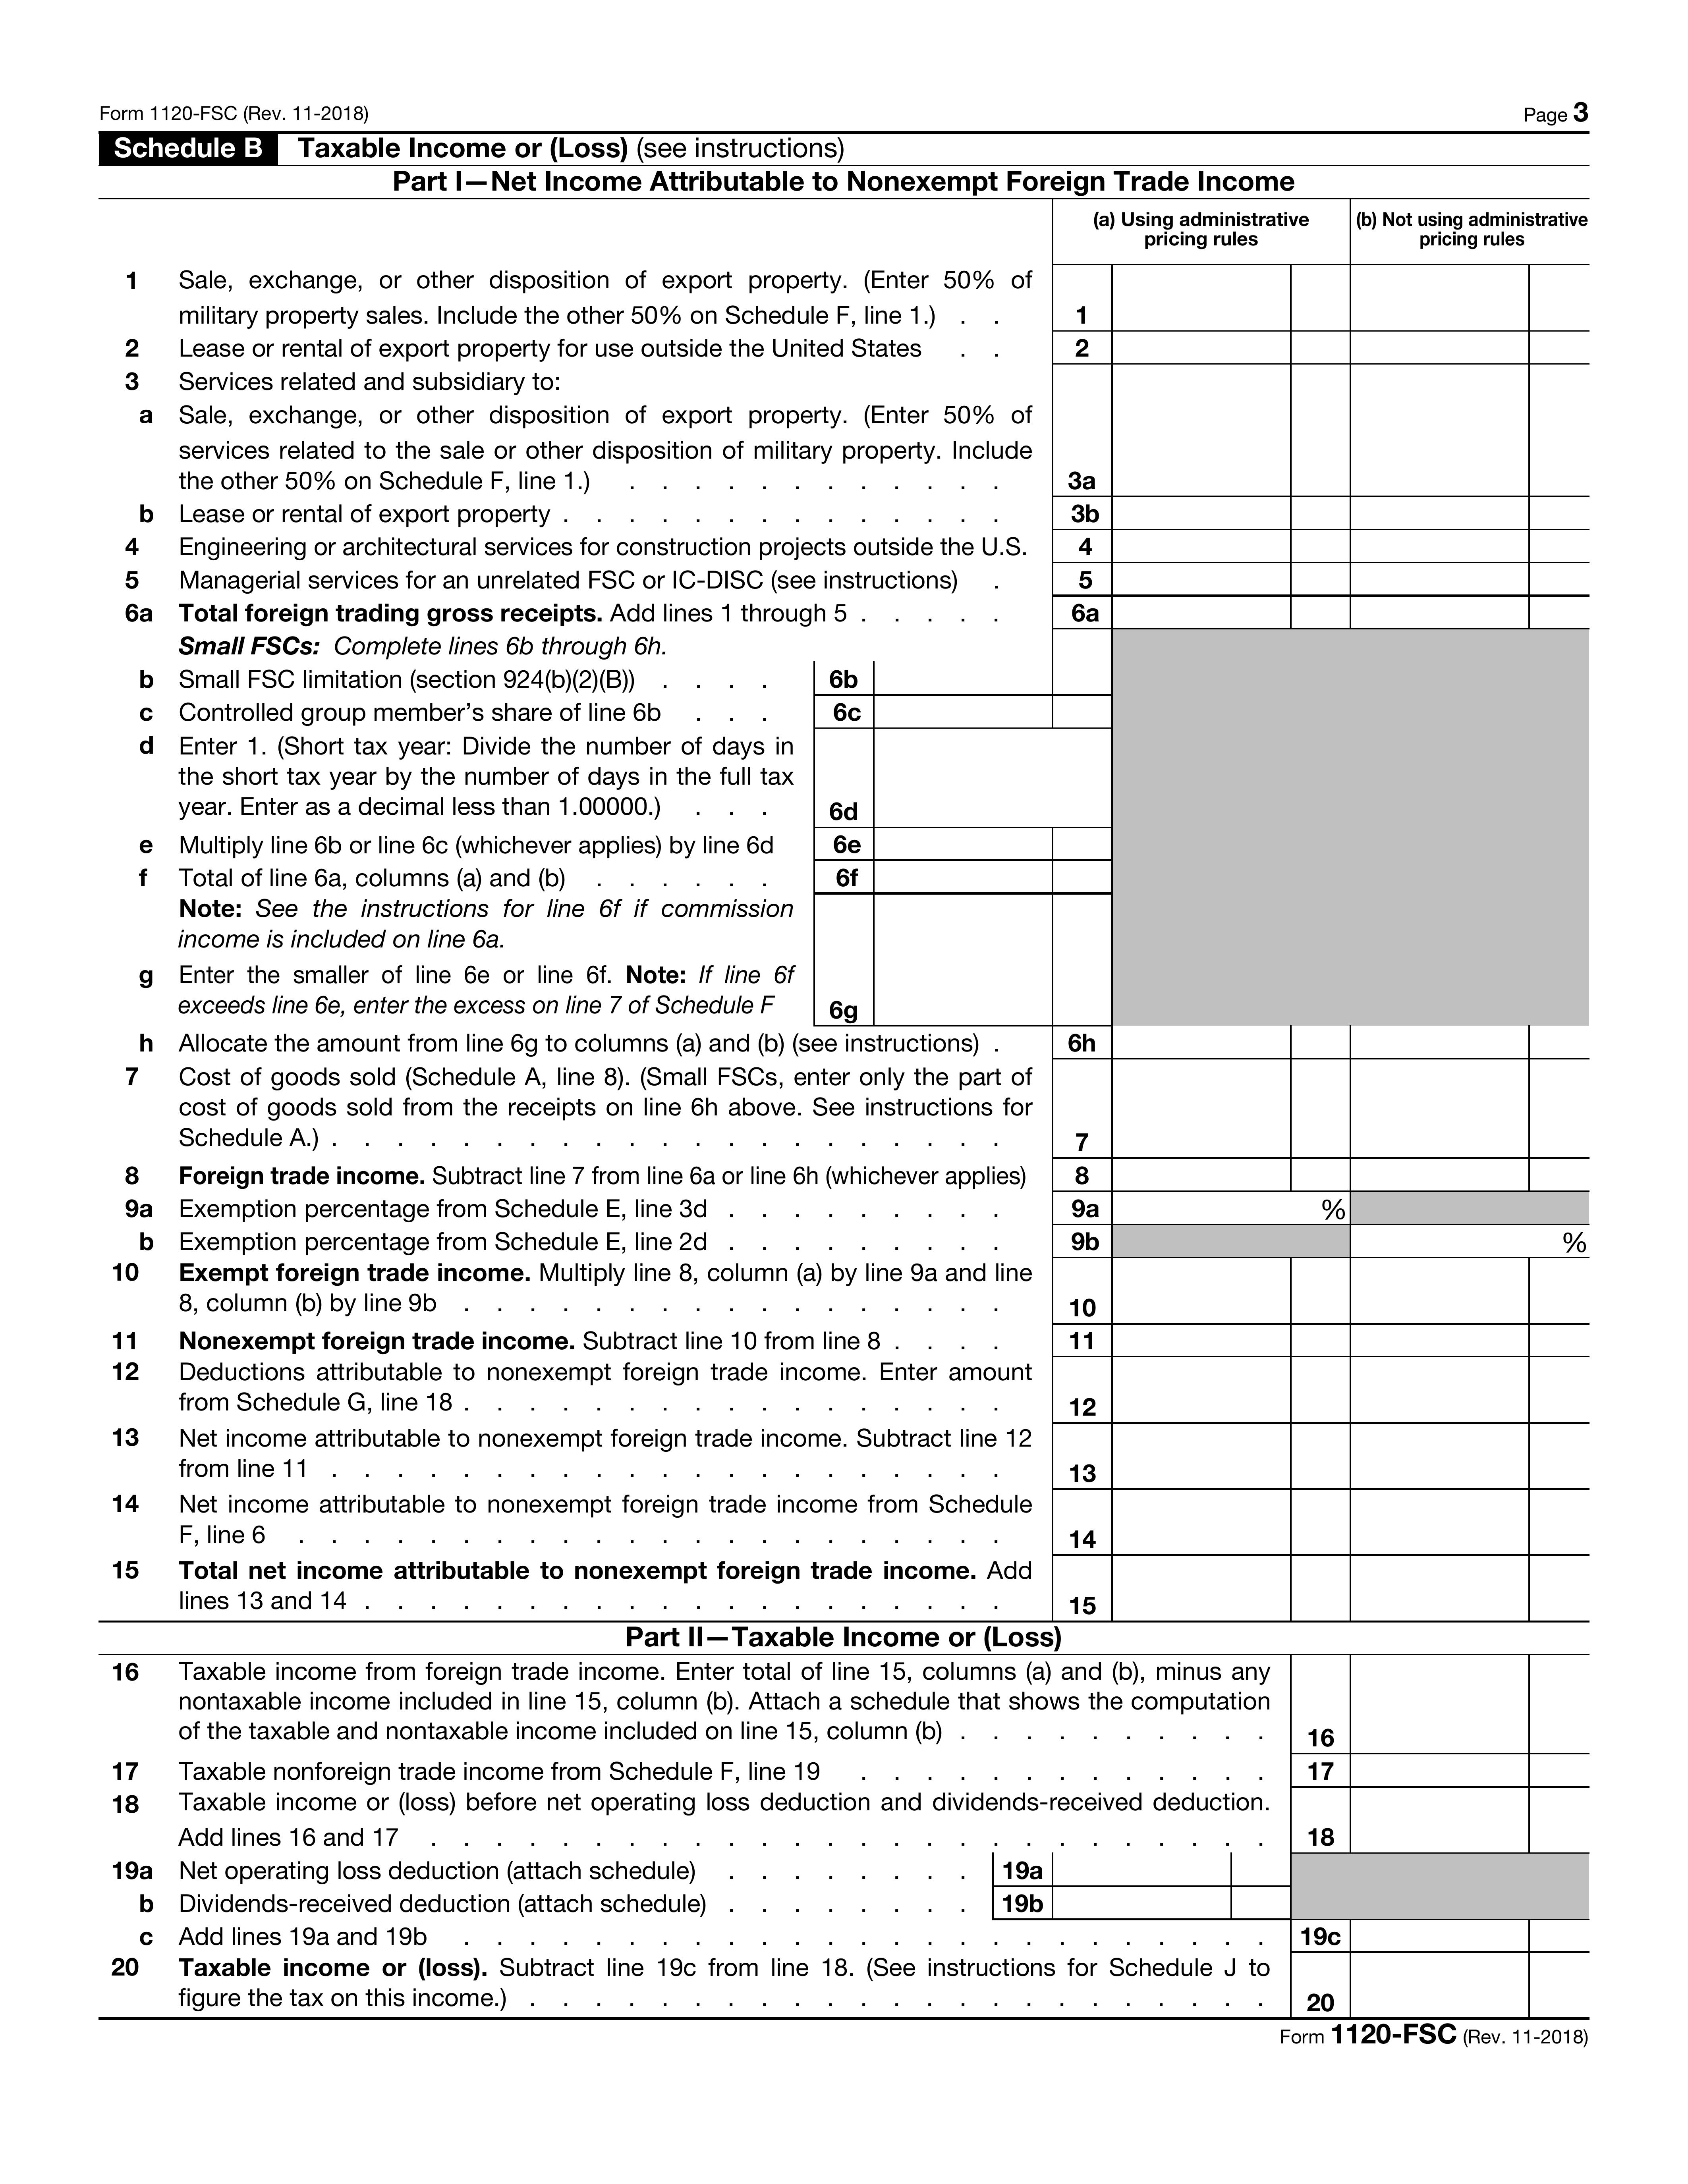table: (85, 195, 1594, 2024)
